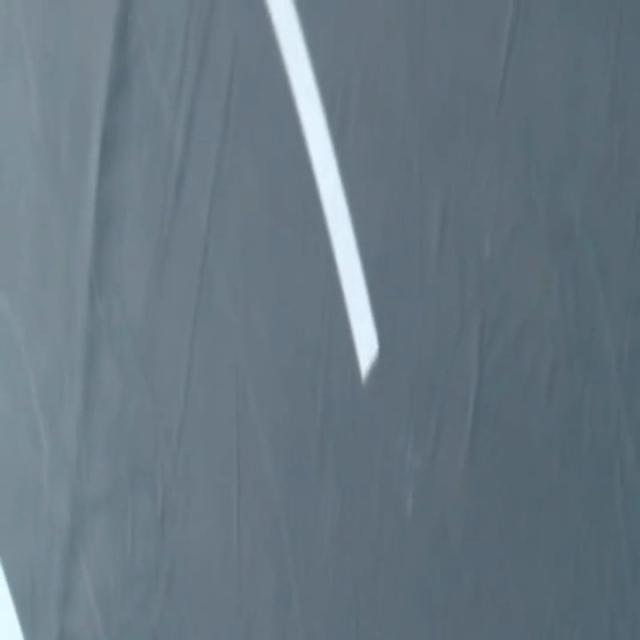center: (265, 0, 378, 383)
left: (0, 564, 23, 639)
